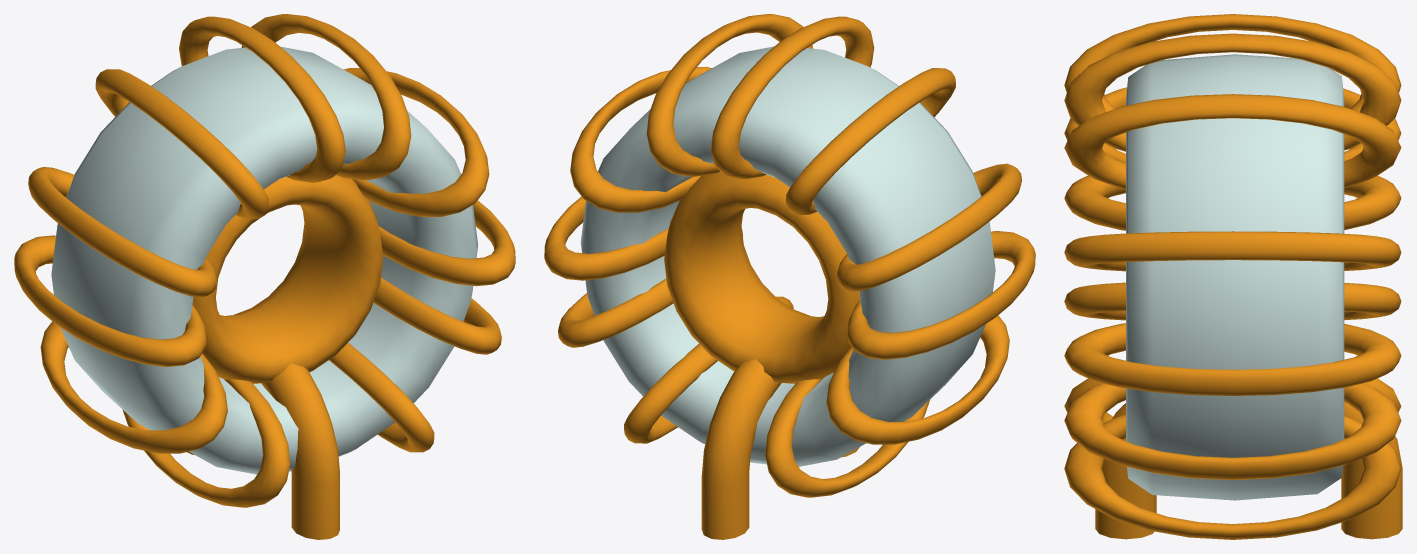
Rendered from circus.fbx.
The picture shows the model from 3 angles, left to right: view 1: azimuth 30°, elevation 25°; view 2: azimuth 150°, elevation 25°; view 3: azimuth 270°, elevation 25°; orthographic projection. The views are drawn at different scales.
Parts seen in each view (by area): view 1: Torus.017; view 2: Torus.017; view 3: Torus.017.
Boxes of the visible parts, <box> form: Torus.017: <box>14,14,515,539</box>; Torus.017: <box>544,14,1035,539</box>; Torus.017: <box>1064,14,1402,539</box>.
Size of the model in its own units: 1143 by 1169 by 730.
